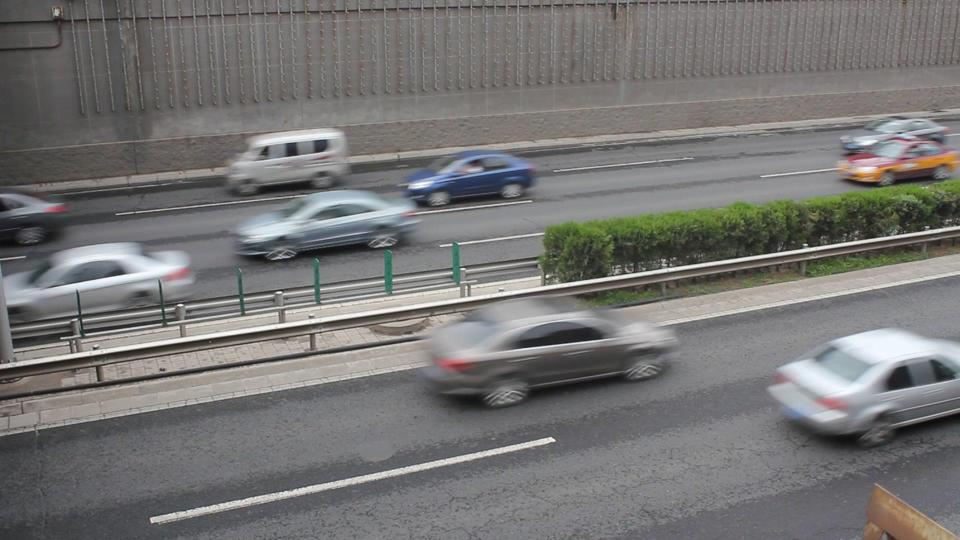Car: (419, 294, 669, 404), (767, 331, 960, 443), (22, 242, 193, 323), (236, 193, 417, 257), (407, 151, 534, 207), (832, 139, 960, 186), (838, 115, 942, 154), (1, 192, 61, 247)
Minivan: (229, 129, 345, 192)
